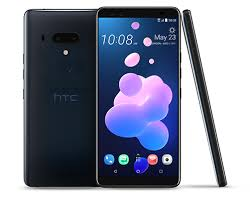htc: (95, 3, 185, 186), (19, 5, 99, 188)
